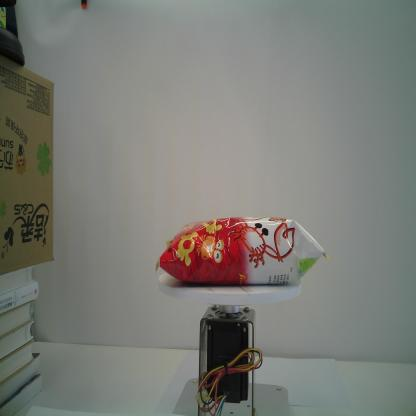Puffed Food: (152, 215, 332, 289)
